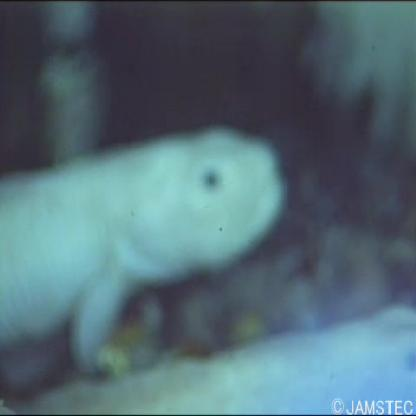Bio: (1, 115, 297, 378)
